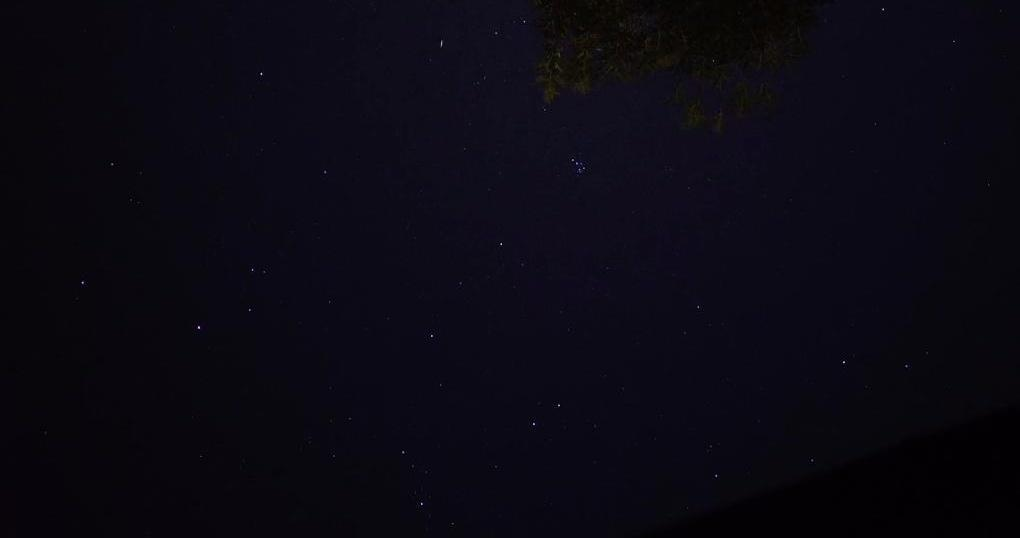meteorite: (435, 36, 449, 53)
